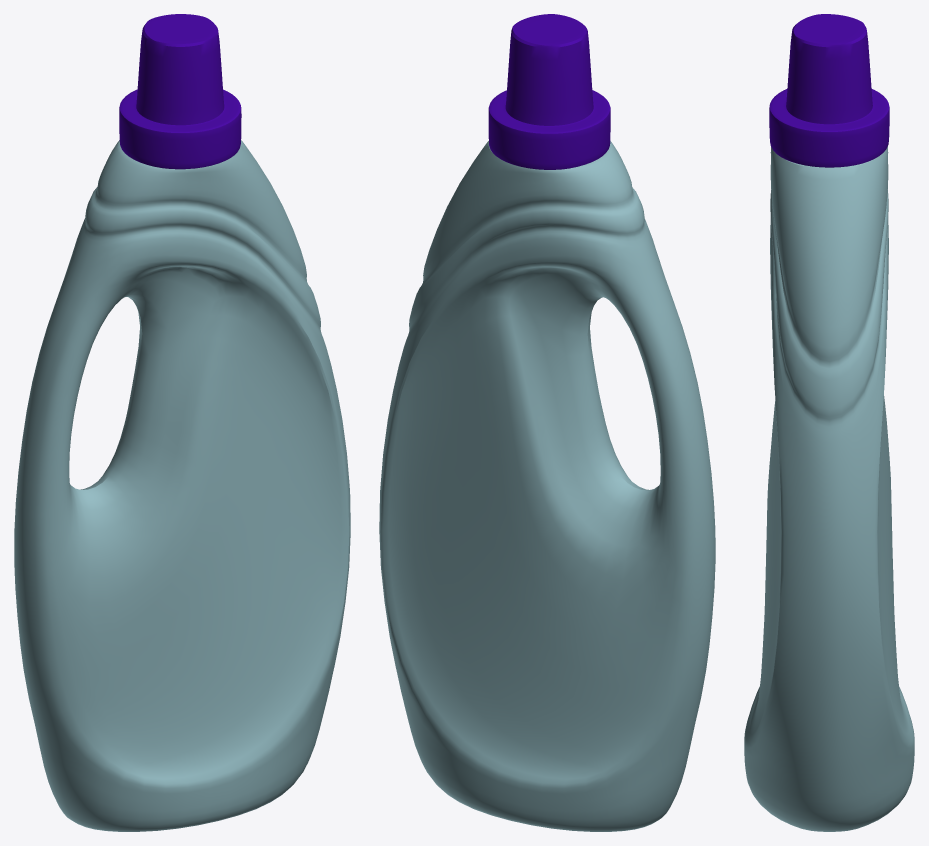
File: detergent.fbx
The picture shows the model from 3 angles, left to right: view 1: azimuth 30°, elevation 25°; view 2: azimuth 150°, elevation 25°; view 3: azimuth 270°, elevation 25°; orthographic projection.
Parts seen in each view (by area): view 1: Detergent; view 2: Detergent; view 3: Detergent.
Boxes of the visible parts, x1,y1,x2,y2 form: Detergent: (14,14,350,831); Detergent: (379,14,715,831); Detergent: (744,14,914,831).
Bounding box in the file's own units: 14.12 × 32.21 × 6.6.
